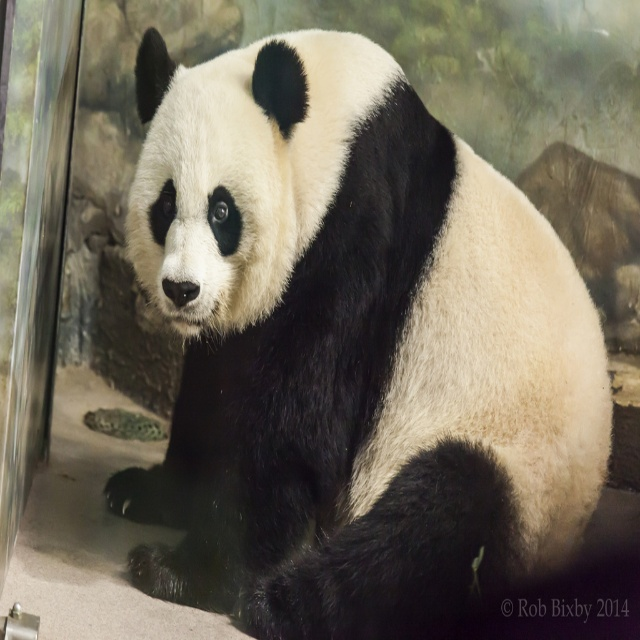Panda: (102, 29, 614, 639)
